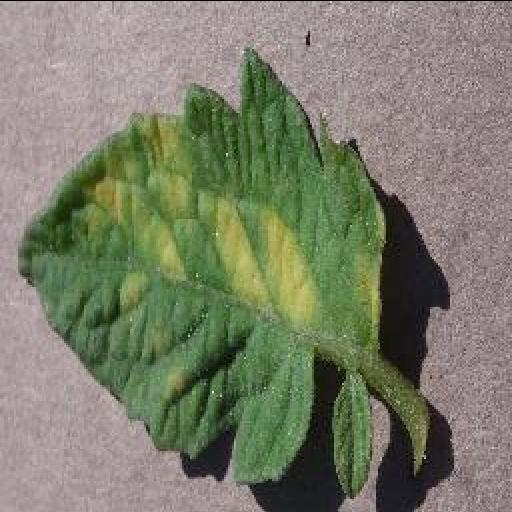disease_tomato: (14, 45, 388, 481)
